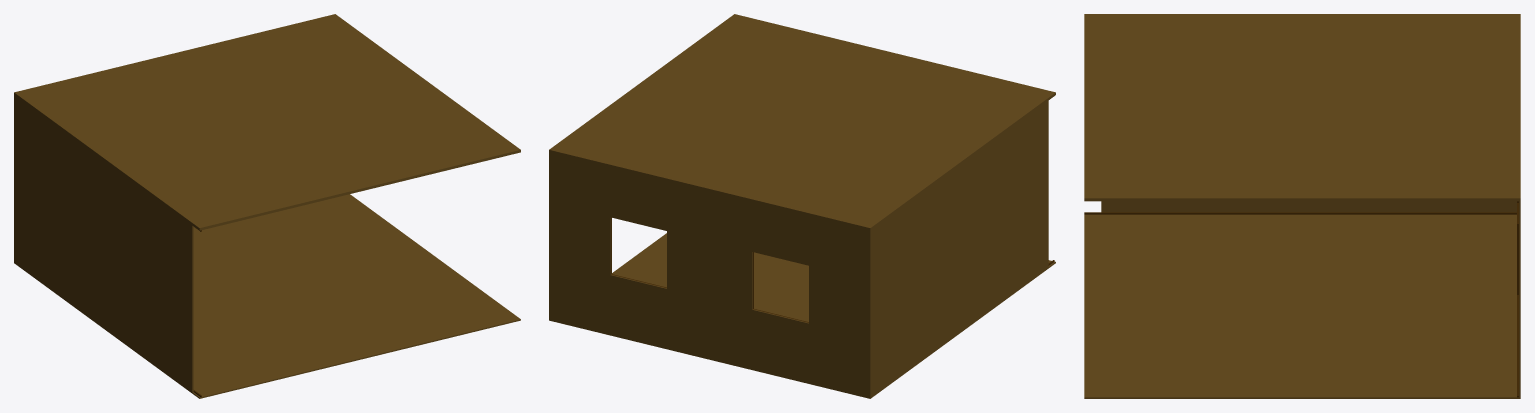
Rendered from saloon.obj.
3 views of the same model, side by side, from view 1: azimuth 30°, elevation 25°; view 2: azimuth 150°, elevation 25°; view 3: azimuth 270°, elevation 25° (orthographic). The views are drawn at different scales.
Size of the model in its own units: 25.6 by 13 by 25.6.
Materials: 1 (1 with a texture image).
